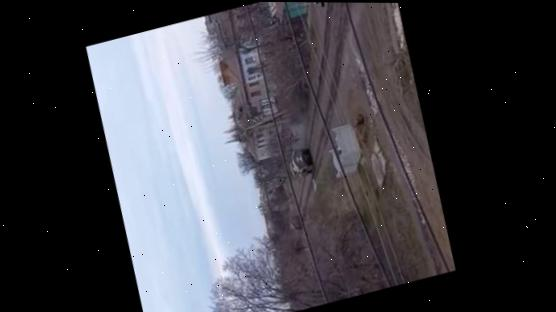truck: (284, 146, 315, 179), (282, 213, 304, 235)
